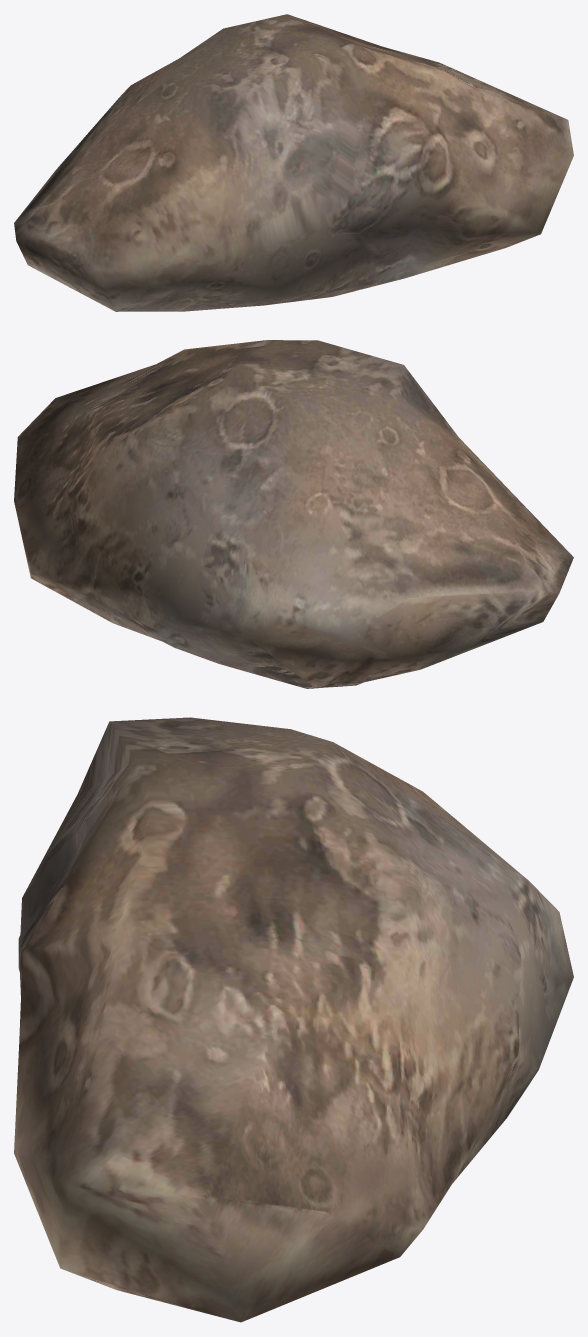
File: asteroid_03.glb
The picture shows the model from 3 angles, top to bottom: view 1: azimuth 30°, elevation 25°; view 2: azimuth 150°, elevation 25°; view 3: azimuth 270°, elevation 25°; orthographic projection. The views are drawn at different scales.
Parts seen in each view (by area): view 1: Asteroid_03_LOD0; view 2: Asteroid_03_LOD0; view 3: Asteroid_03_LOD0.
Boxes of the visible parts, bbox=[...] form: Asteroid_03_LOD0: bbox=[14, 14, 573, 311]; Asteroid_03_LOD0: bbox=[14, 340, 573, 688]; Asteroid_03_LOD0: bbox=[14, 717, 573, 1322].
Bounding box in the file's own units: 7.12 × 3.49 × 4.02.
Materials: 1 (1 with a texture image).
